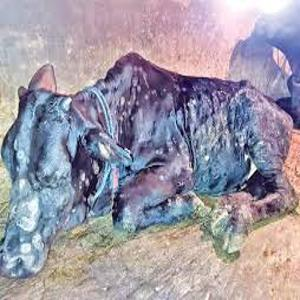lumpy skin diesease: (0, 50, 299, 280), (226, 0, 299, 132)
